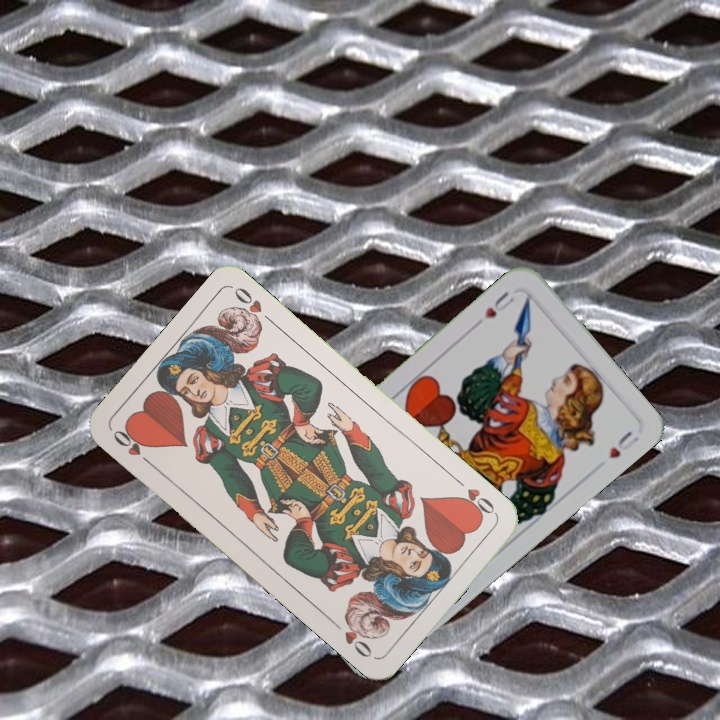HO: (450, 473, 499, 521), (109, 423, 157, 470)
HU: (480, 287, 519, 322)
